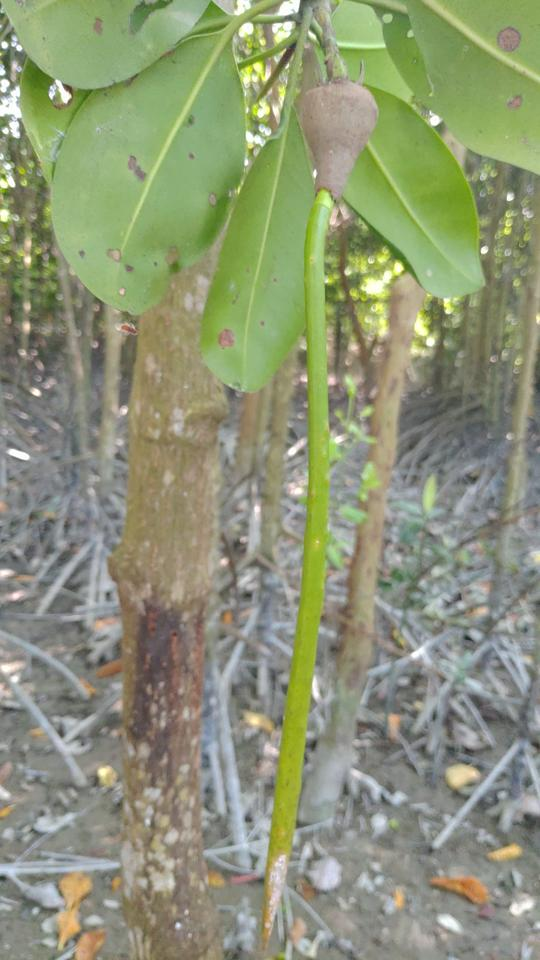setengah matang: (238, 48, 382, 959)
